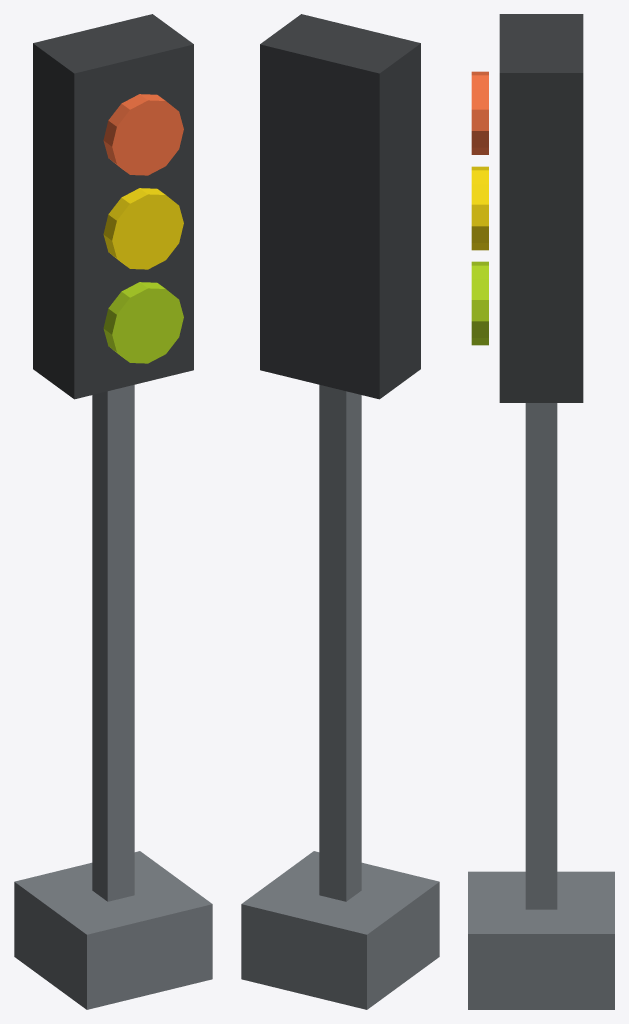
The model's file is Street_Traffic_Light.glb.
3 views of the same model, side by side, from view 1: azimuth 30°, elevation 25°; view 2: azimuth 150°, elevation 25°; view 3: azimuth 270°, elevation 25° (orthographic).
Parts seen in each view (by area): view 1: Street_Traffic_Light; view 2: Street_Traffic_Light; view 3: Street_Traffic_Light.
Part boxes in pixels (x1,y1,x2,y2): Street_Traffic_Light: (14,14,212,1009); Street_Traffic_Light: (241,14,439,1009); Street_Traffic_Light: (468,14,614,1009).
Size of the model in its own units: 0.42 by 2.95 by 0.42.
